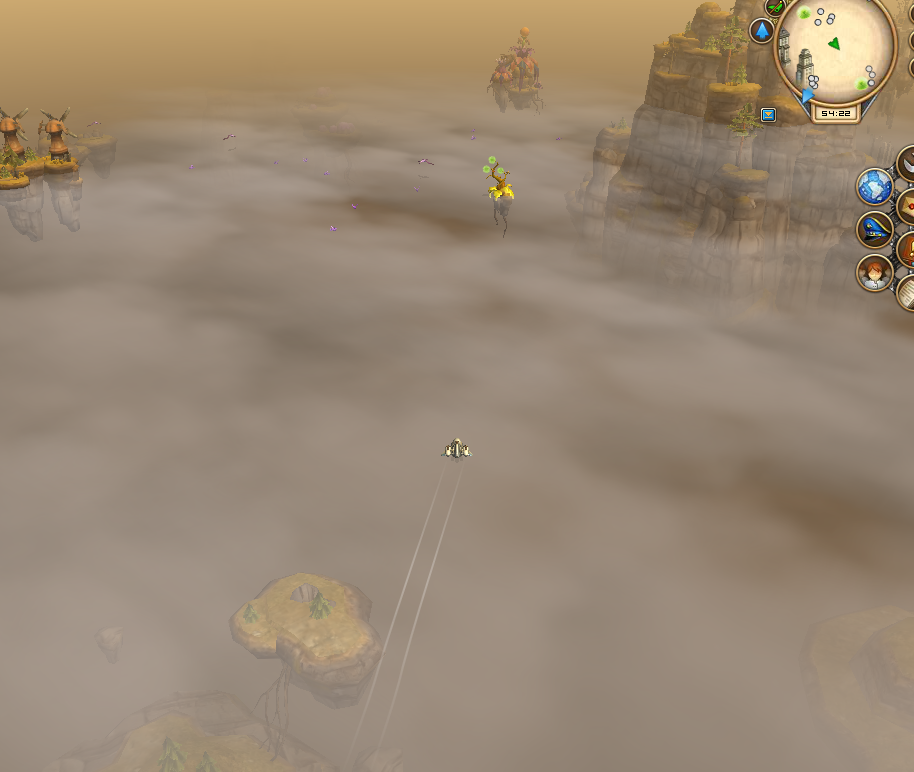dandelion-full: (475, 147, 520, 219)
